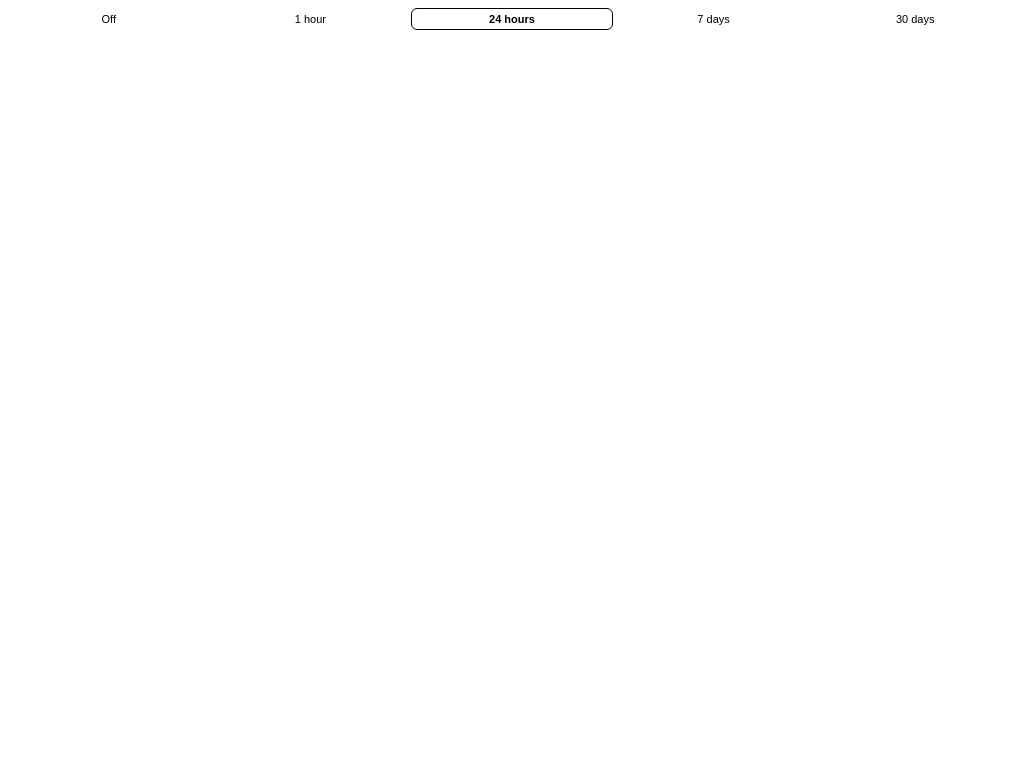
Test: MessageExpirationEditor › keeps the staged choice when the confirmation is CANCELLED
Click the button "1 hour". click: (310, 19)
box: [210,8,411,30]
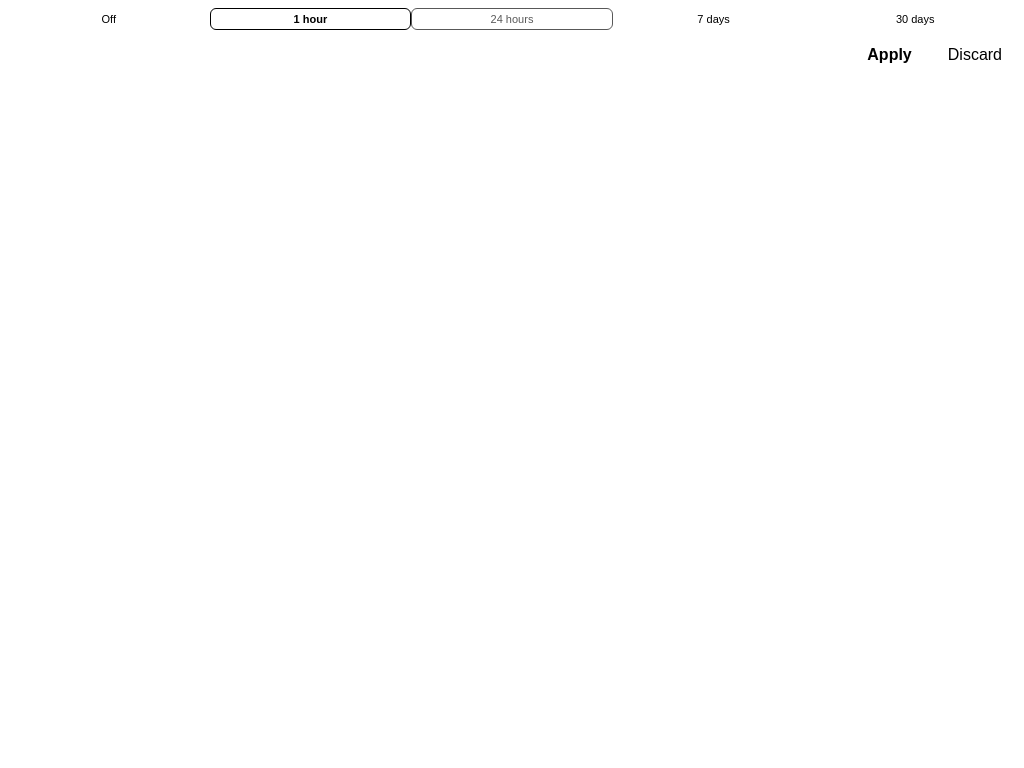
Click the button "Apply". click: (890, 55)
box: [853,40,926,70]
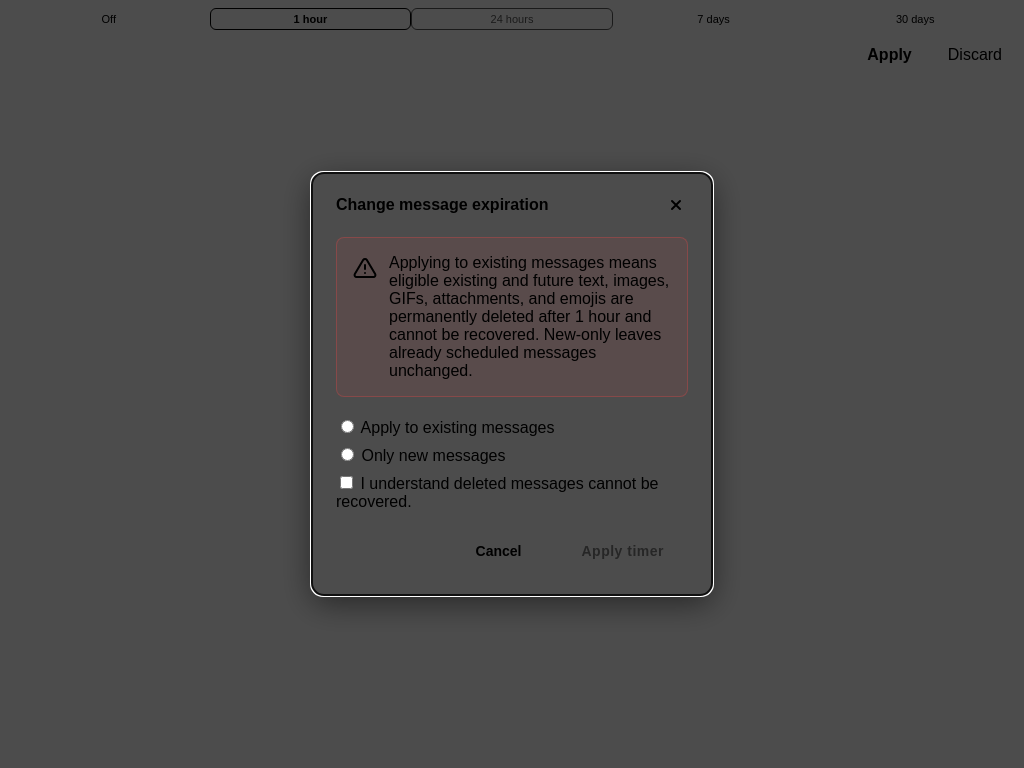
expect the dialog "Change message expiration" is shown: met, box [312,173,712,595]
Click the button "Cancel". click: (499, 551)
box: [452,531,546,571]
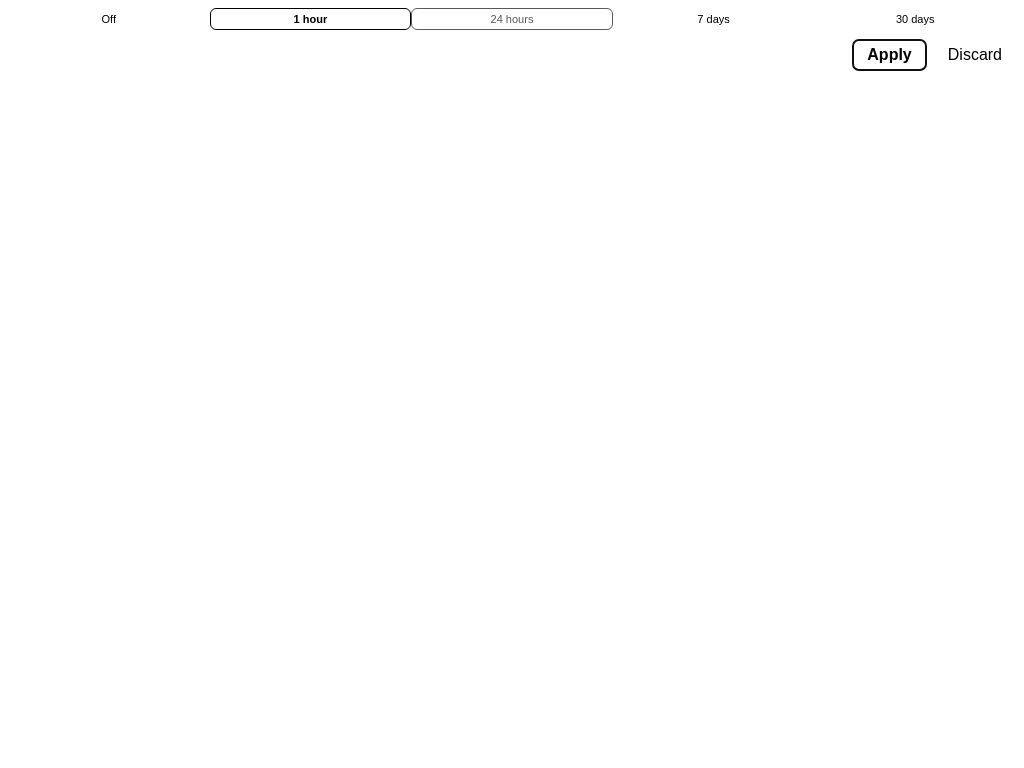
expect the button "Apply" is shown: met, box [853,40,926,70]
expect the button "Discard" is shown: met, box [934,40,1016,70]
expect the heading "Change message expiration" is gone: met
